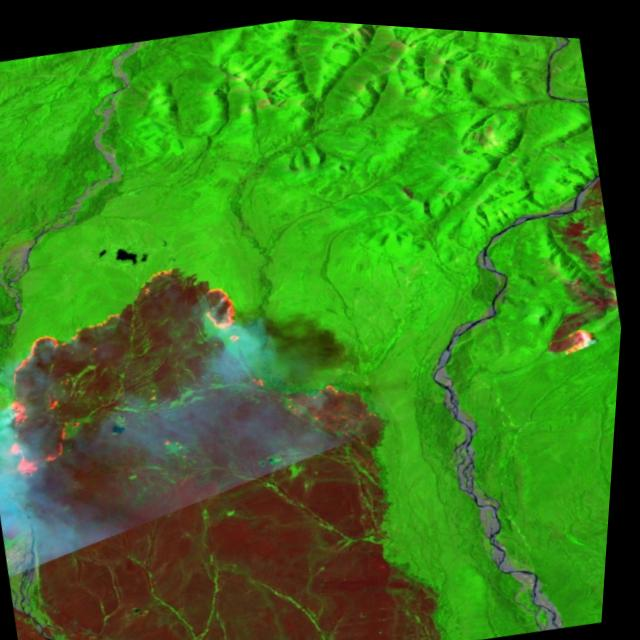fire: (0, 252, 217, 490), (197, 268, 279, 393), (539, 303, 611, 360)
